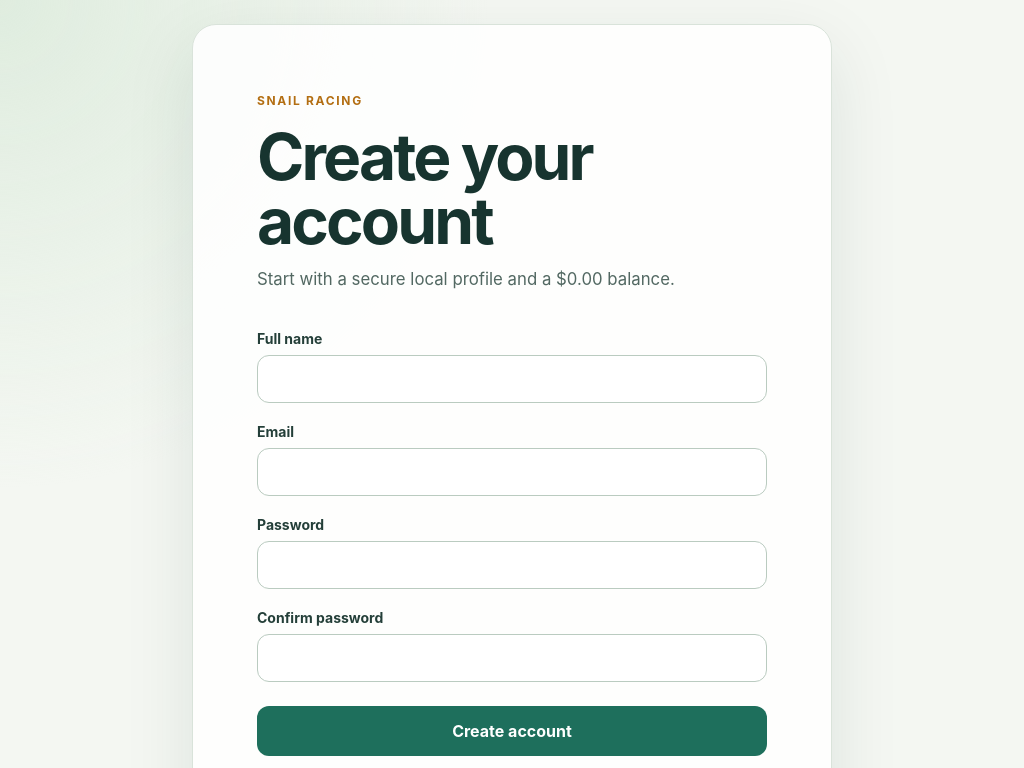
Test: RegisterPage › shows field errors for invalid registration details
Type "not-an-email" into the field labelled "Email" at (512, 472), box top-left (257, 448), bottom-right (767, 496)
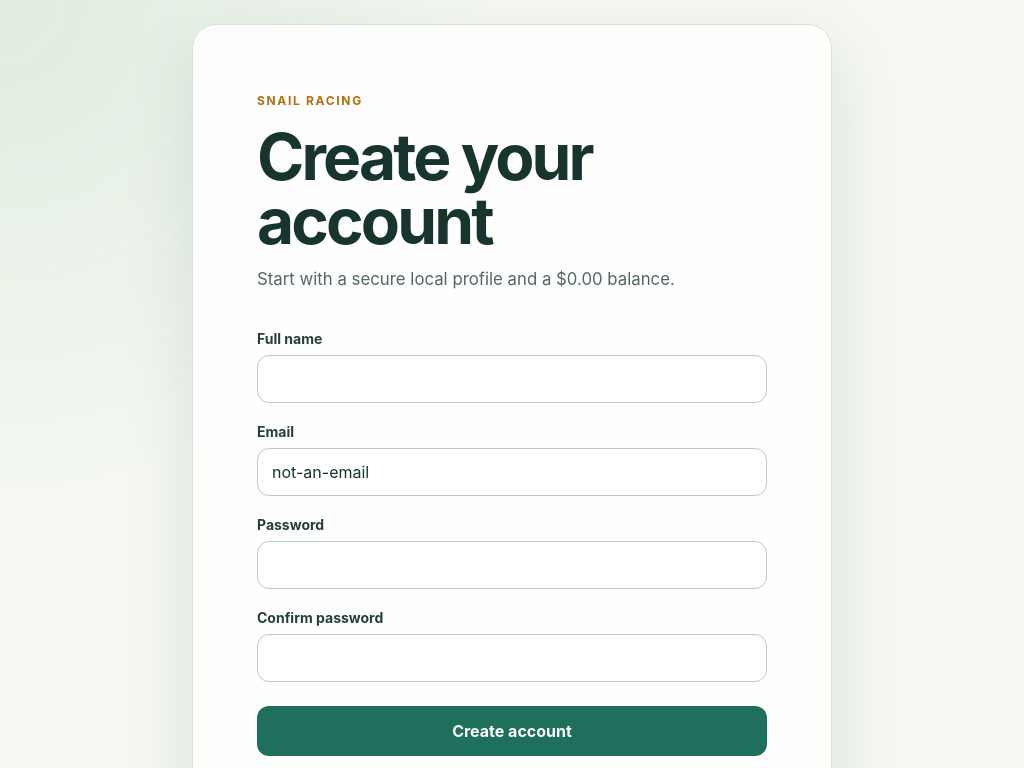
Type "short" into the password field labelled "Password" at (512, 564), box top-left (257, 540), bottom-right (767, 588)
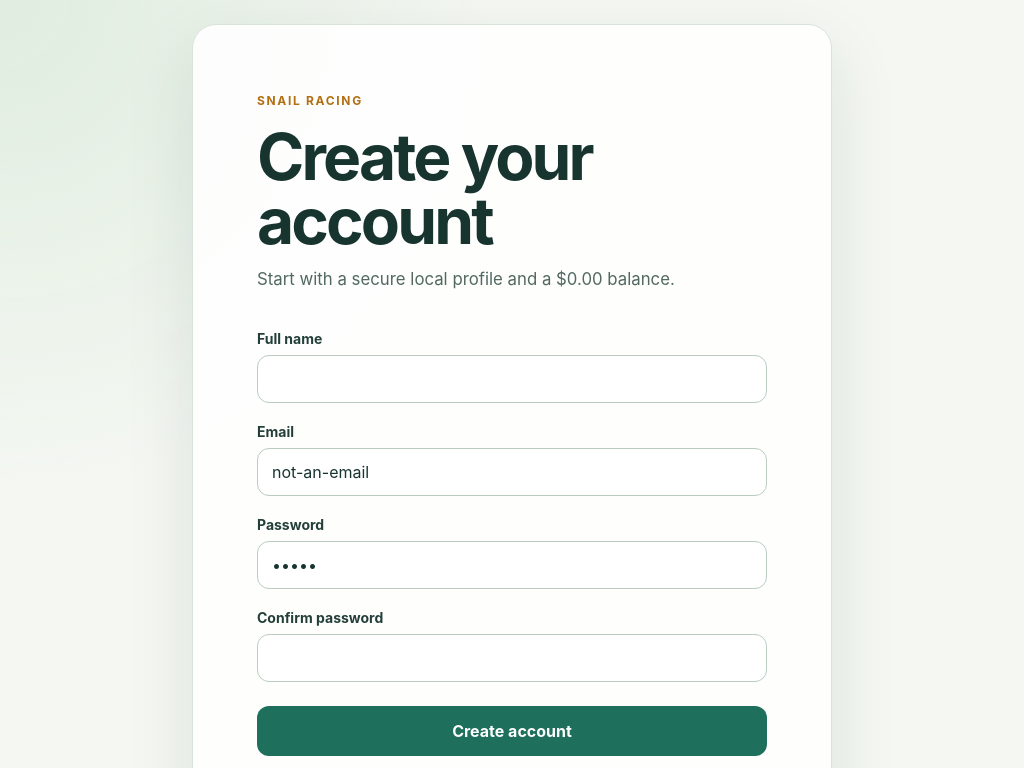
Type "short" into the password field labelled "Confirm password" at (512, 658), box top-left (257, 634), bottom-right (767, 682)
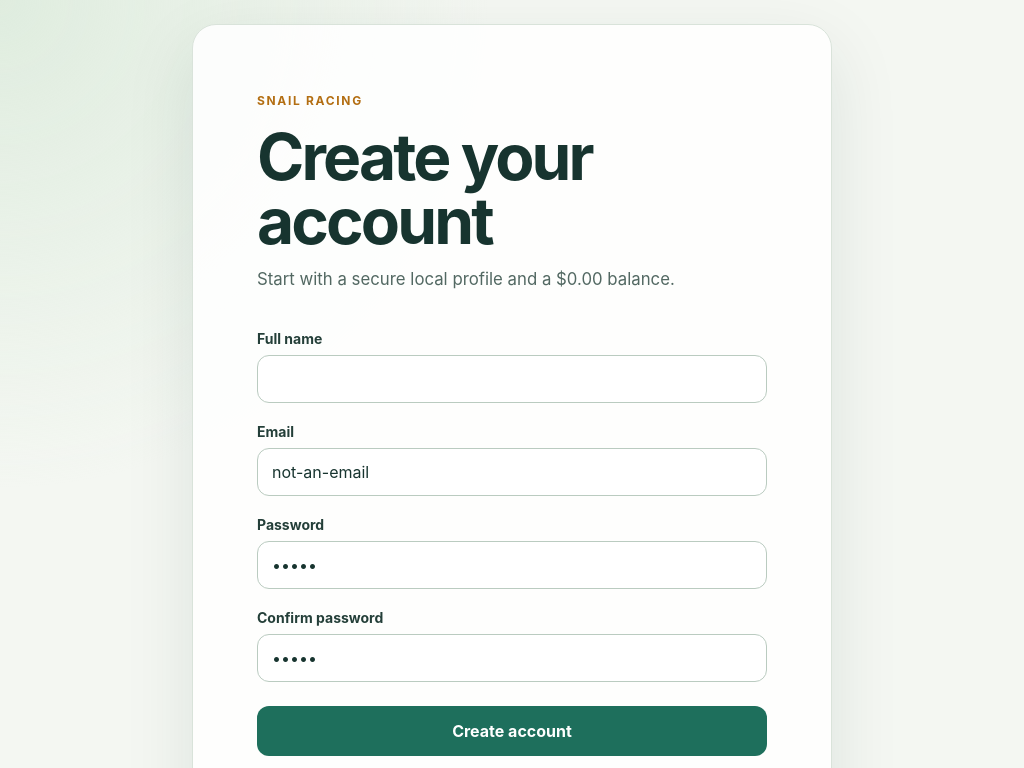
Click the button "Create account" at (512, 730), box top-left (257, 706), bottom-right (767, 756)
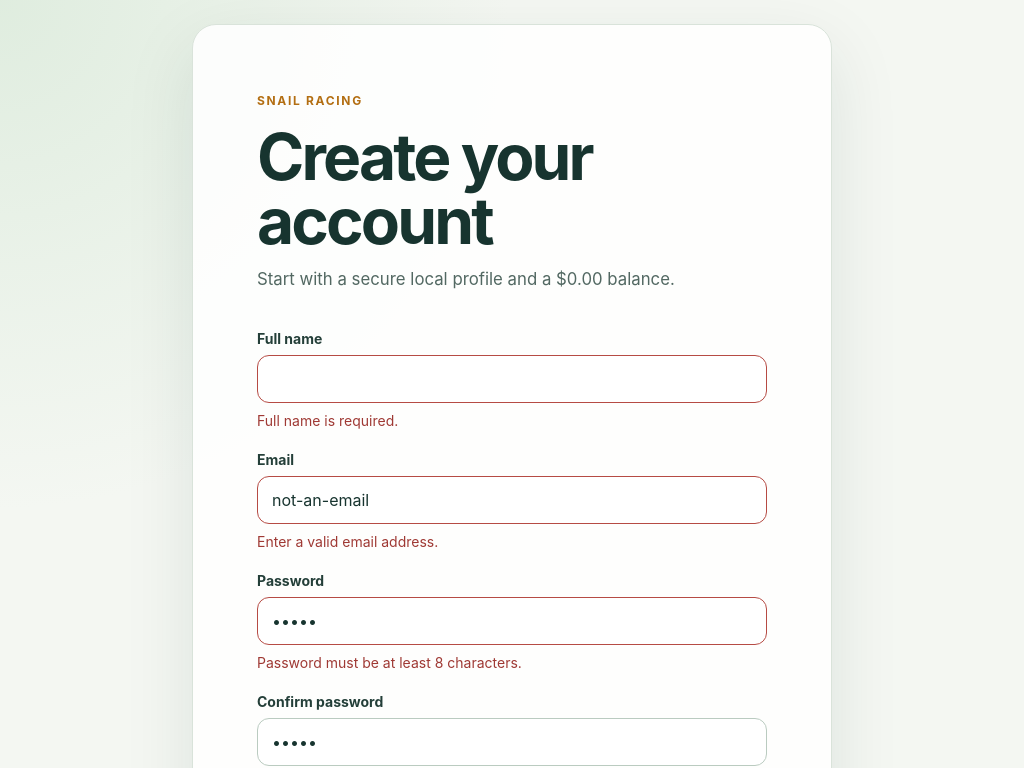
Check: the text "Full name is required." is shown, box top-left (257, 412), bottom-right (398, 428)
Check: the text "Enter a valid email address." is shown, box top-left (257, 533), bottom-right (438, 550)
Check: the text "Password must be at least 8 characters." is shown, box top-left (257, 654), bottom-right (522, 671)
